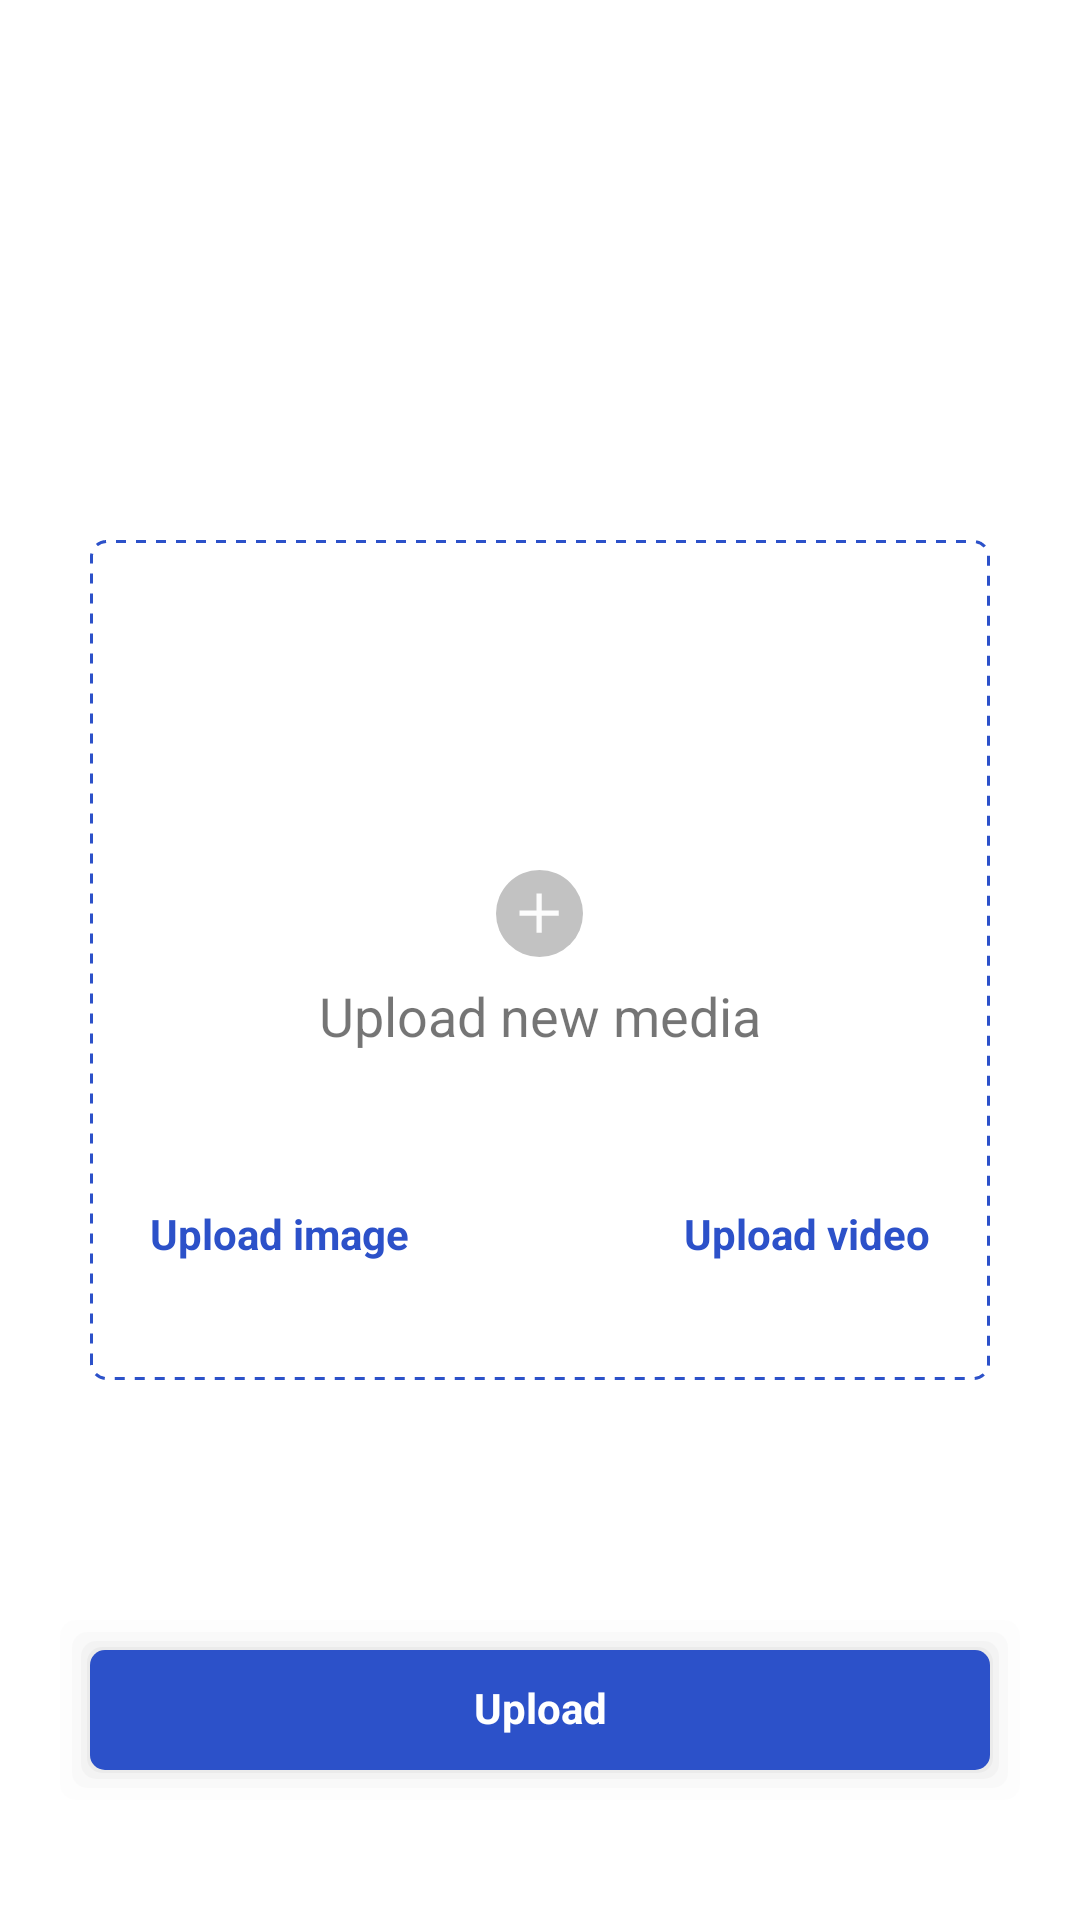

Screen size 1080px×1920px. Icon name, then its center in pixels as (x=x, y=y):
add: (x=539, y=913)
